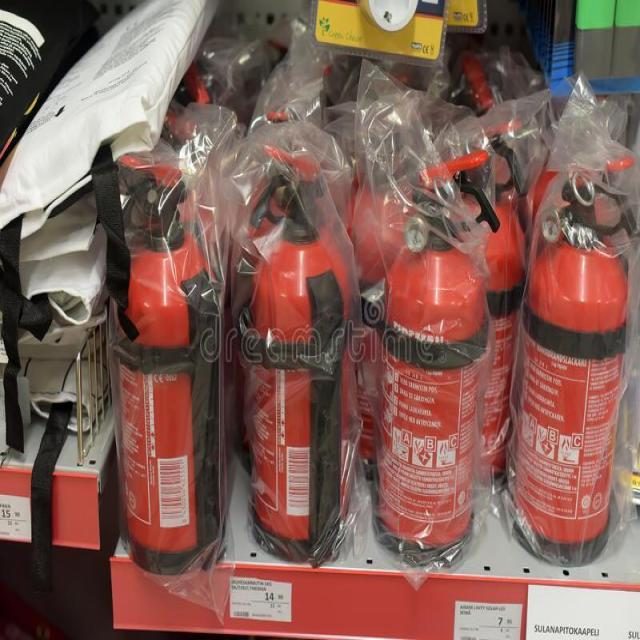fire_extinguisher: (502, 158, 639, 577), (370, 149, 500, 571), (106, 155, 219, 592), (238, 147, 354, 561), (431, 50, 531, 512), (328, 111, 446, 494)
